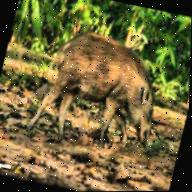boar: (12, 12, 188, 168)
